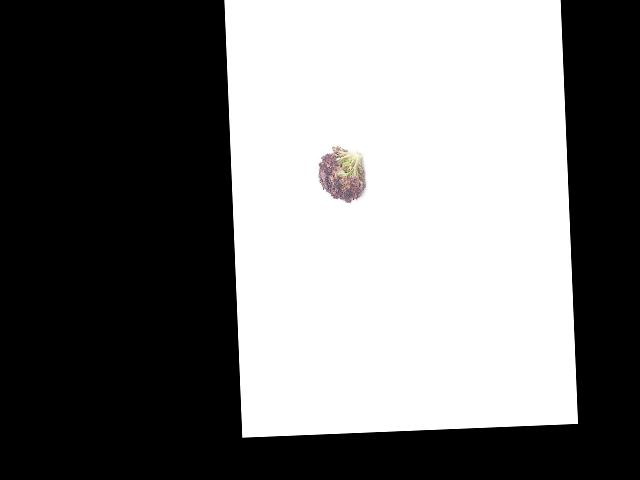lettuce: (315, 147, 369, 206)
